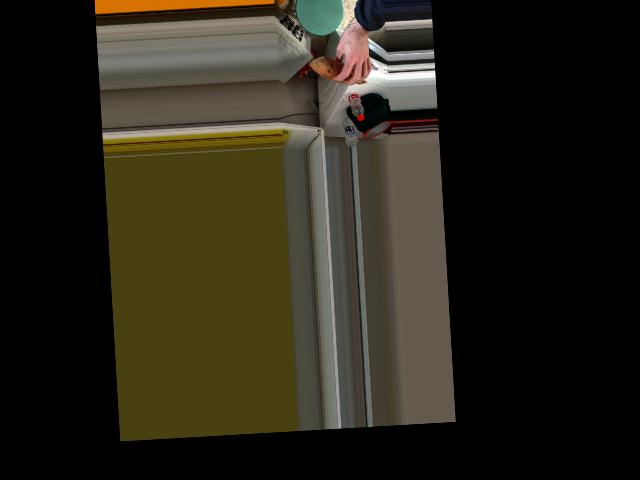sweet_potato: (314, 58, 368, 86)
